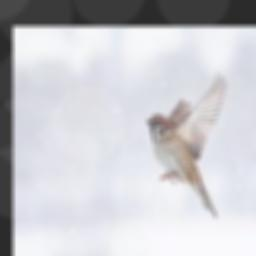Sparrow: (147, 72, 229, 218)
